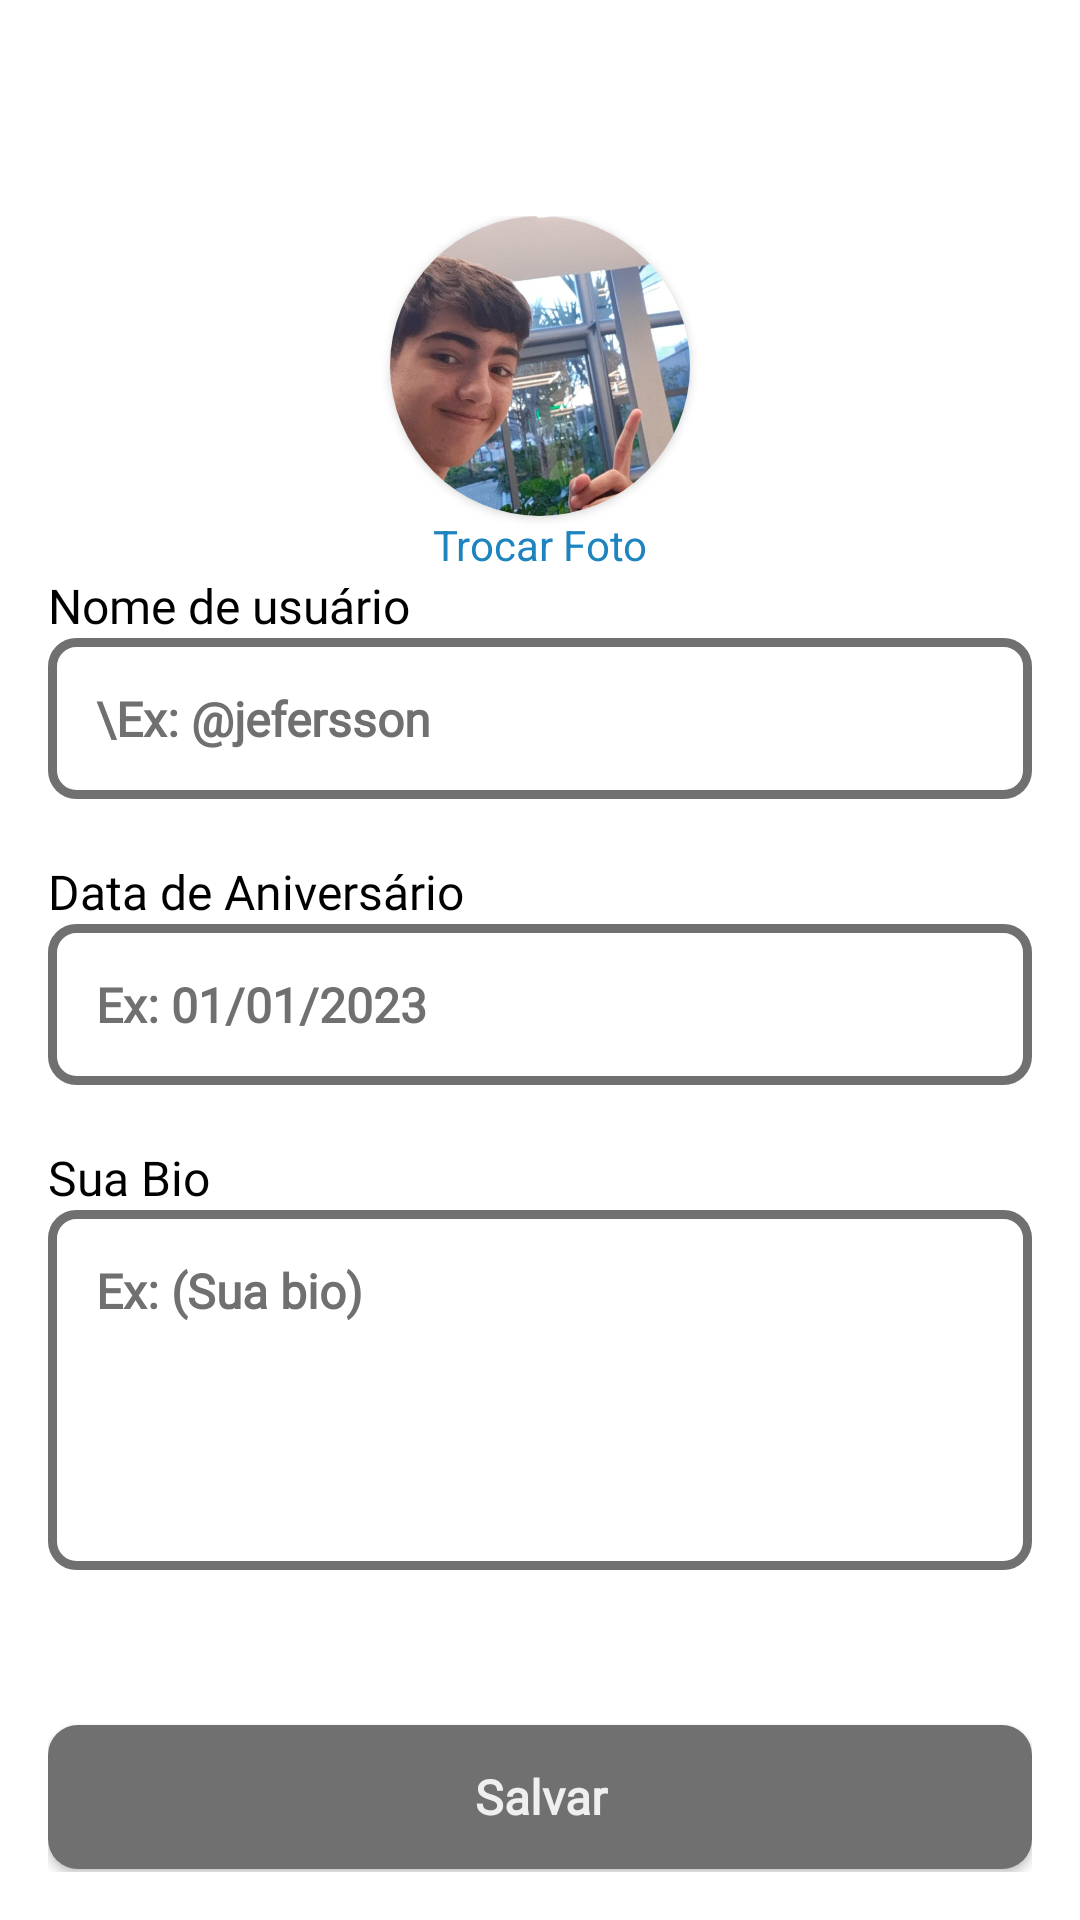

Where icons sit on this 1080w x 1920h app screen, as rect(x1, y1, x2, y2):
perfil example: rect(390, 216, 690, 516)
